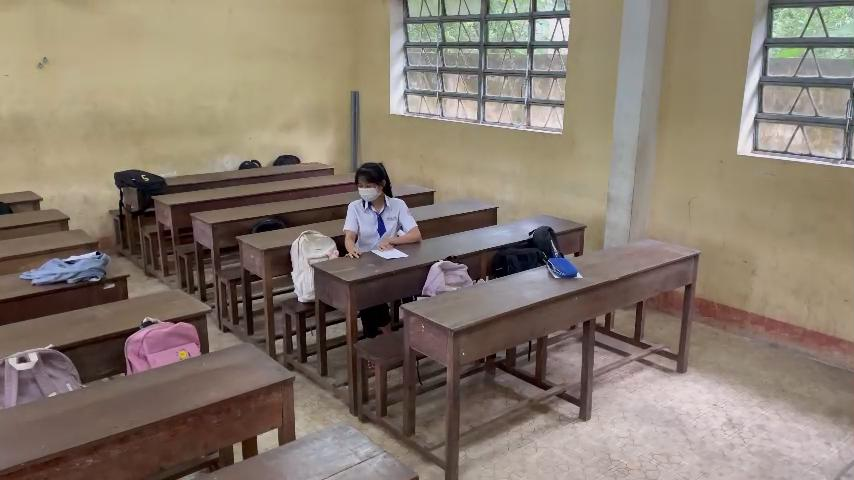Look Around: (348, 156, 395, 204)
